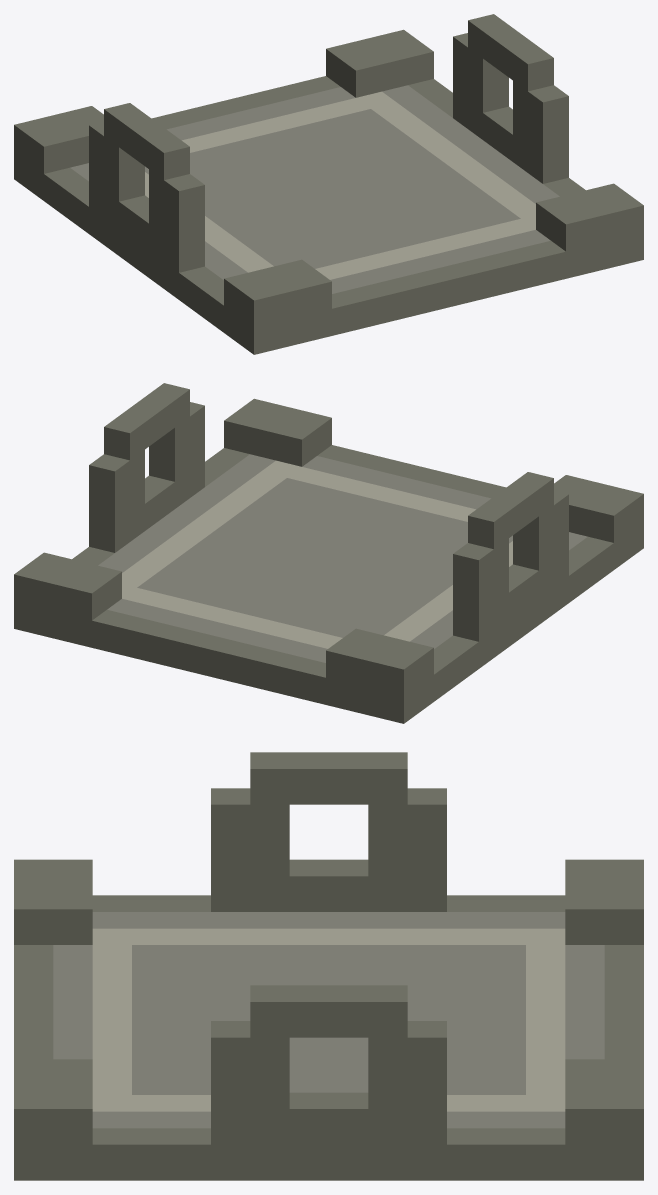
The model's file is LeverBase.obj.
3 views of the same model, one above another, from view 1: azimuth 30°, elevation 25°; view 2: azimuth 150°, elevation 25°; view 3: azimuth 270°, elevation 25° (orthographic). The views are drawn at different scales.
Size of the model in its own units: 1.5 by 0.5 by 1.6.
1 material, 1 textured.
